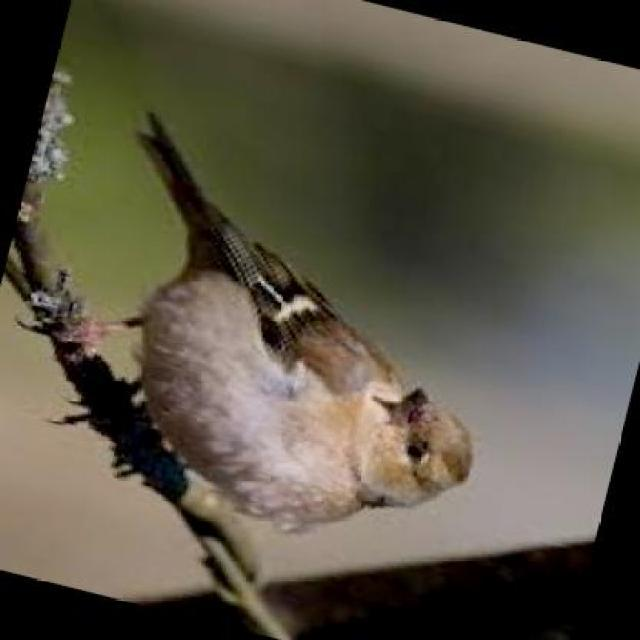Bird: (89, 109, 483, 542)
